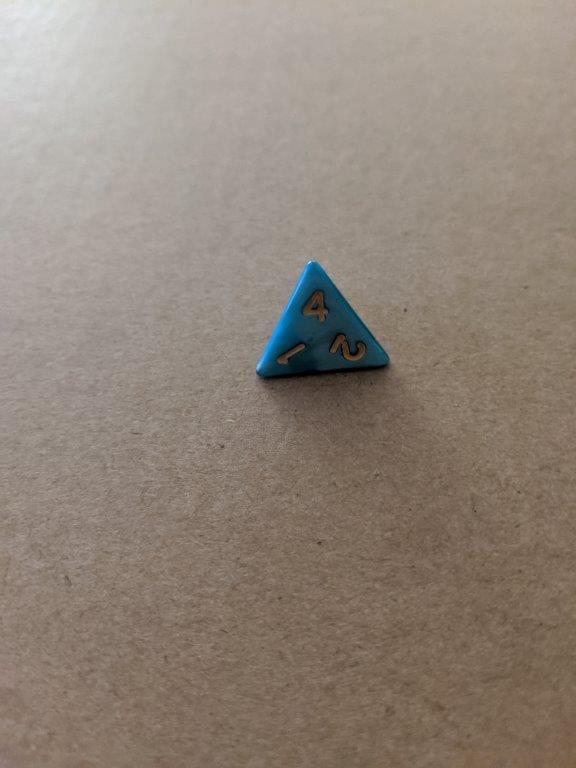d4-4: (253, 259, 393, 382)
